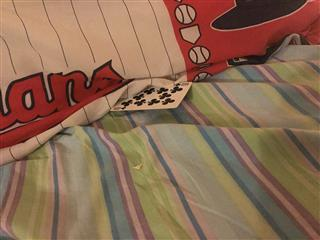TenOfClubs: (109, 81, 193, 110)
